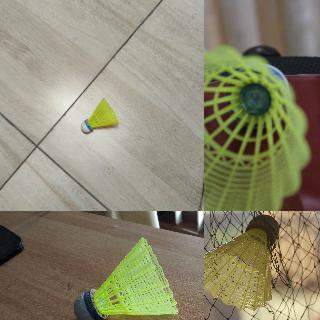shuttlecock: (204, 45, 312, 210), (73, 235, 179, 319), (204, 214, 279, 310), (80, 97, 118, 137)
